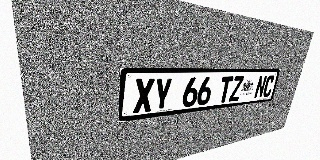6: (182, 77, 200, 108), (196, 77, 214, 106)
C: (262, 75, 275, 98)
N: (253, 76, 267, 99)
T: (217, 76, 234, 103)
X: (133, 78, 155, 114)
Y: (152, 78, 173, 111)
Z: (229, 76, 244, 102)
